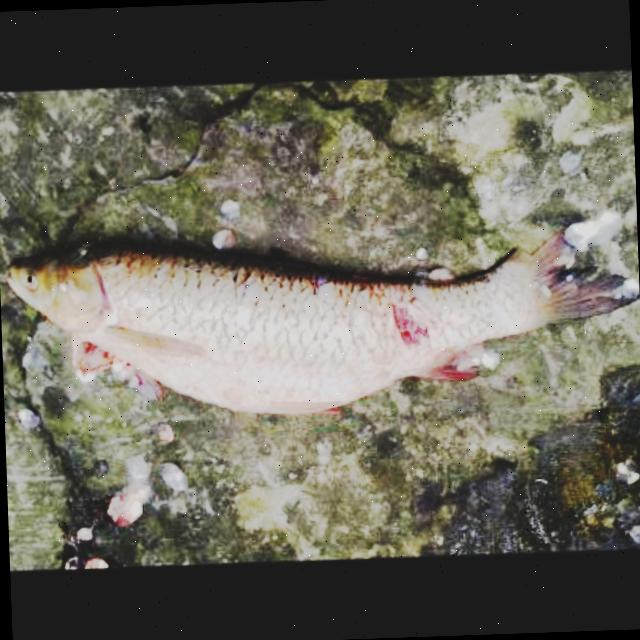Edwardsiella Ictaluri -Bacterial Red Disease-: (8, 228, 639, 413)
